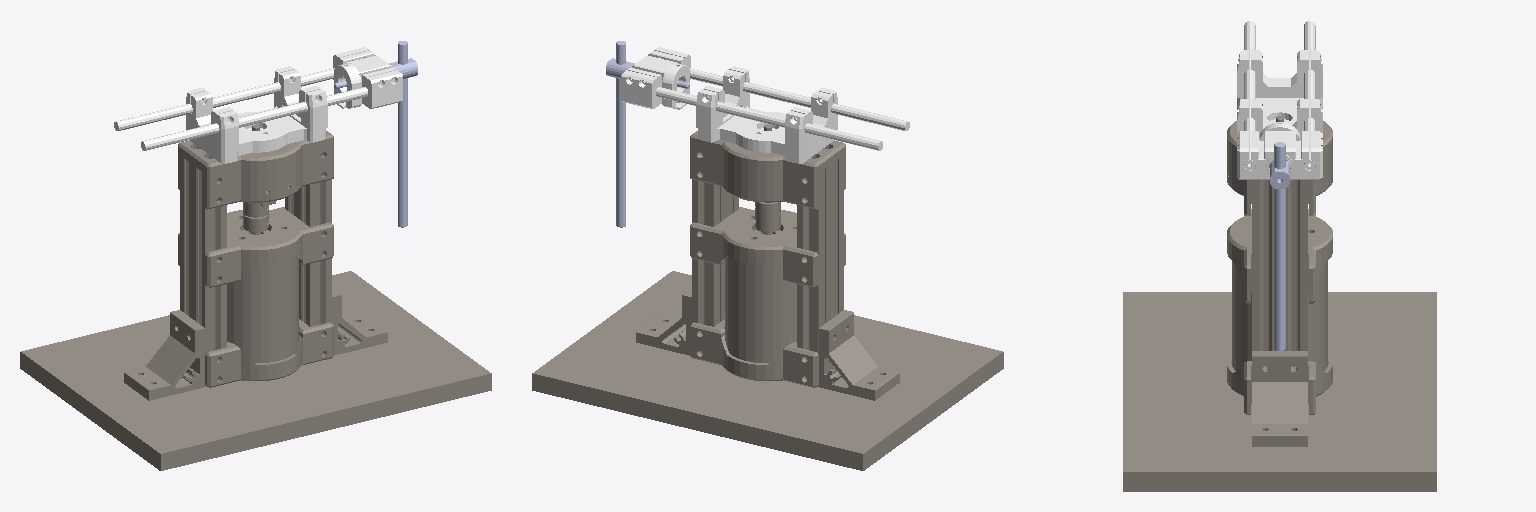
The robot description file, URDF, robot "Rotary Inverted Pendulum":
<?xml version="1.0" encoding="utf-8"?>
<!-- This URDF was automatically created by SolidWorks to URDF Exporter! Originally created by Stephen Brawner (brawner@gmail.com) 
     Commit Version: 1.6.0-4-g7f85cfe  Build Version: 1.6.7995.38578
     For more information, please see http://wiki.ros.org/sw_urdf_exporter -->
<robot
  name="Rotary Inverted Pendulum">
  <link
    name="base_link">
    <inertial>
      <origin
        xyz="0.00019503 -1.6785E-06 0.019191"
        rpy="0 0 0" />
      <mass
        value="8.7934" />
      <inertia
        ixx="0.03296"
        ixy="-1.2953E-08"
        ixz="1.3278E-09"
        iyy="0.059793"
        iyz="6.8808E-08"
        izz="0.090142" />
    </inertial>
    <visual>
      <origin
        xyz="0 0 0"
        rpy="0 0 0" />
      <geometry>
        <mesh
          filename="package://invpendulum_description/meshes/base_link.STL"/>
      </geometry>
      <material
        name="">
        <color
          rgba="0.65098 0.61961 0.58824 1" />
      </material>
    </visual>
    <collision>
      <origin
        xyz="0 0 0"
        rpy="0 0 0" />
      <geometry>
        <mesh
          filename="package://invpendulum_description/meshes/base_link.STL" />
      </geometry>
    </collision>
  </link>
  <link
    name="arm_link">
    <inertial>
      <origin
        xyz="0.0191189780582279 -2.13351893908753E-06 0.0126487945771829"
        rpy="0 0 0" />
      <mass
        value="0.215027242047406" />
      <inertia
        ixx="4.4776241646878E-05"
        ixy="8.80683920929371E-10"
        ixz="1.99972176522499E-09"
        iyy="0.000234783071150826"
        iyz="-4.06419213981252E-09"
        izz="0.000267396198485261" />
    </inertial>
    <visual>
      <origin
        xyz="0 0 0"
        rpy="0 0 0" />
      <geometry>
        <mesh
          filename="package://invpendulum_description/meshes/arm_link.STL"/>
      </geometry>
      <material
        name="">
        <color
          rgba="1 1 1 1" />
      </material>
    </visual>
    <collision>
      <origin
        xyz="0 0 0"
        rpy="0 0 0" />
      <geometry>
        <mesh
          filename="package://invpendulum_description/meshes/arm_link.STL"/>
      </geometry>
    </collision>
  </link>
  <joint
    name="Rev_Arm"
    type="continuous">
    <origin
      xyz="0.0002 0 0.212"
      rpy="0 0 0" />
    <parent
      link="base_link" />
    <child
      link="arm_link" />
    <axis
      xyz="0 0 1" />
  </joint>
  <link
    name="pendulum_link">
    <inertial>
      <origin
        xyz="0.038074 3.9254E-10 0.0081922"
        rpy="0 0 0" />
      <mass
        value="0.011664" />
      <inertia
        ixx="1.3411E-06"
        ixy="-5.6723E-14"
        ixz="-5.8423E-13"
        iyy="1.7968E-05"
        iyz="-2.8301E-14"
        izz="1.6783E-05" />
    </inertial>
    <visual>
      <origin
        xyz="0 0 0"
        rpy="0 0 0" />
      <geometry>
        <mesh
          filename="package://invpendulum_description/meshes/pendulum_link.STL"/>
      </geometry>
      <material
        name="">
        <color
          rgba="0.79216 0.81961 0.93333 1" />
      </material>
    </visual>
    <collision>
      <origin
        xyz="0 0 0"
        rpy="0 0 0" />
      <geometry>
        <mesh
          filename="package://invpendulum_description/meshes/pendulum_link.STL"/>
      </geometry>
    </collision>
  </link>
  <joint
    name="Rev_Pendulum"
    type="continuous">
    <origin
      xyz="0.1215 0 0.0255"
      rpy="0 1.5708 0" />
    <parent
      link="arm_link" />
    <child
      link="pendulum_link" />
    <axis
      xyz="0 0 1" />
  </joint>

  <link name="end_effector">
    <visual>
      <origin xyz="0 0 0" rpy="0 0 0" />
    </visual>
  </link>

  <joint
    name="Pendulum_to_EE"
    type="fixed">
    <origin
      xyz="0.135 0 0.0115"
      rpy="0 0 0" />
    <parent
      link="pendulum_link" />
    <child
      link="end_effector" />
  </joint>
</robot>

--- What the picture shows (computed from the rendered views, not written in the file) ---
The picture shows the robot from 3 angles, left to right: view 1: azimuth 30°, elevation 25°; view 2: azimuth 150°, elevation 25°; view 3: azimuth 270°, elevation 25°; orthographic projection.
Model Rotary Inverted Pendulum with 4 links and 3 joints (2 continuous, 1 fixed), rooted at base_link, posed all joints at 0.
Links seen in each view (by area): view 1: base_link, arm_link, pendulum_link; view 2: base_link, arm_link, pendulum_link; view 3: base_link, arm_link, pendulum_link.
Boxes of the visible links, box(x1,y1,x2,y2) form: base_link: box(20, 124, 491, 470); arm_link: box(114, 47, 402, 163); pendulum_link: box(334, 41, 417, 227); base_link: box(532, 124, 1003, 470); arm_link: box(621, 47, 909, 163); pendulum_link: box(606, 41, 689, 227); base_link: box(1123, 116, 1436, 491); arm_link: box(1237, 21, 1322, 179); pendulum_link: box(1270, 142, 1289, 350).
Bounding box of the posed robot: 0.3 × 0.22 × 0.261 m (x, y, z).
3 mesh visuals loaded from 3 distinct referenced files (3 binary STL).
